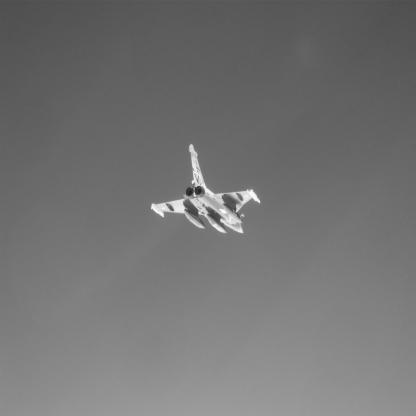Rafale: (152, 145, 262, 234)
